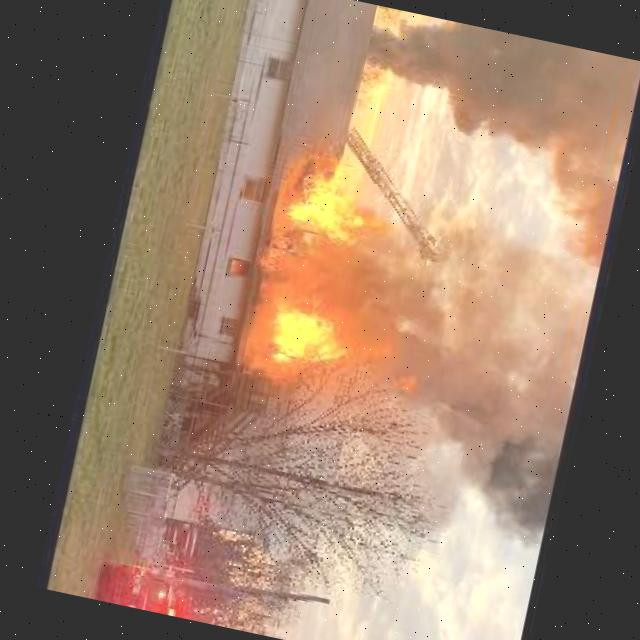fire: (240, 142, 435, 402)
